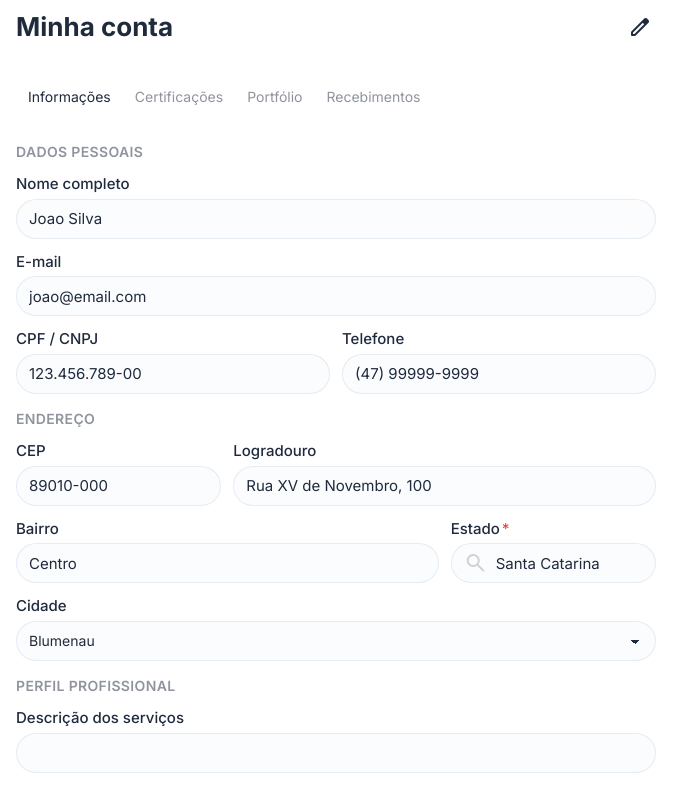
MinhaContaView › carrega recebimentos ao abrir a aba do prestador
Click the radio button named "Recebimentos" at point(374, 97), box [314,77,432,117]
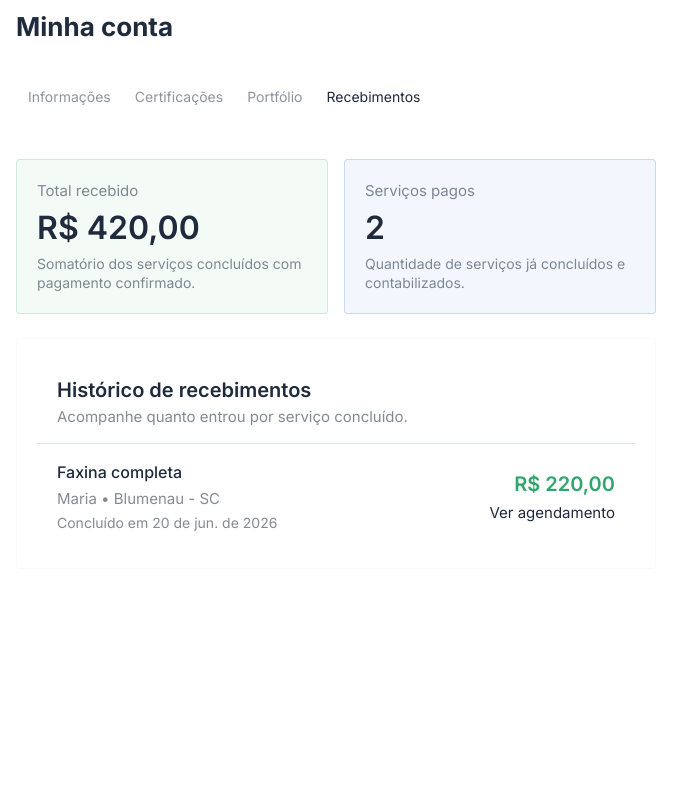
expect the text "Faxina completa" is shown: met, box [57,462,182,482]
expect the text "Maria" is shown: met, box [57,489,220,508]
